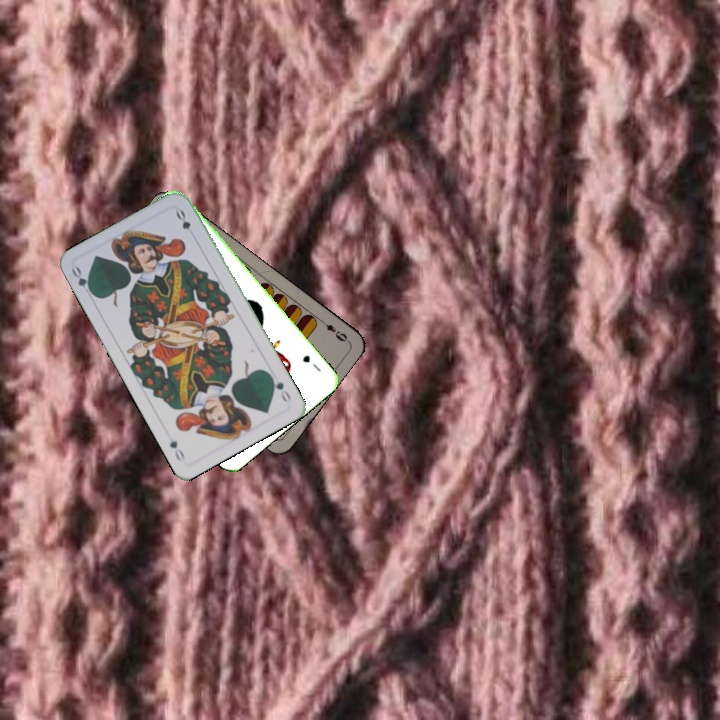E9: (316, 315, 350, 344)
GO: (67, 262, 97, 300), (265, 370, 294, 406)
GU: (298, 351, 323, 375)
